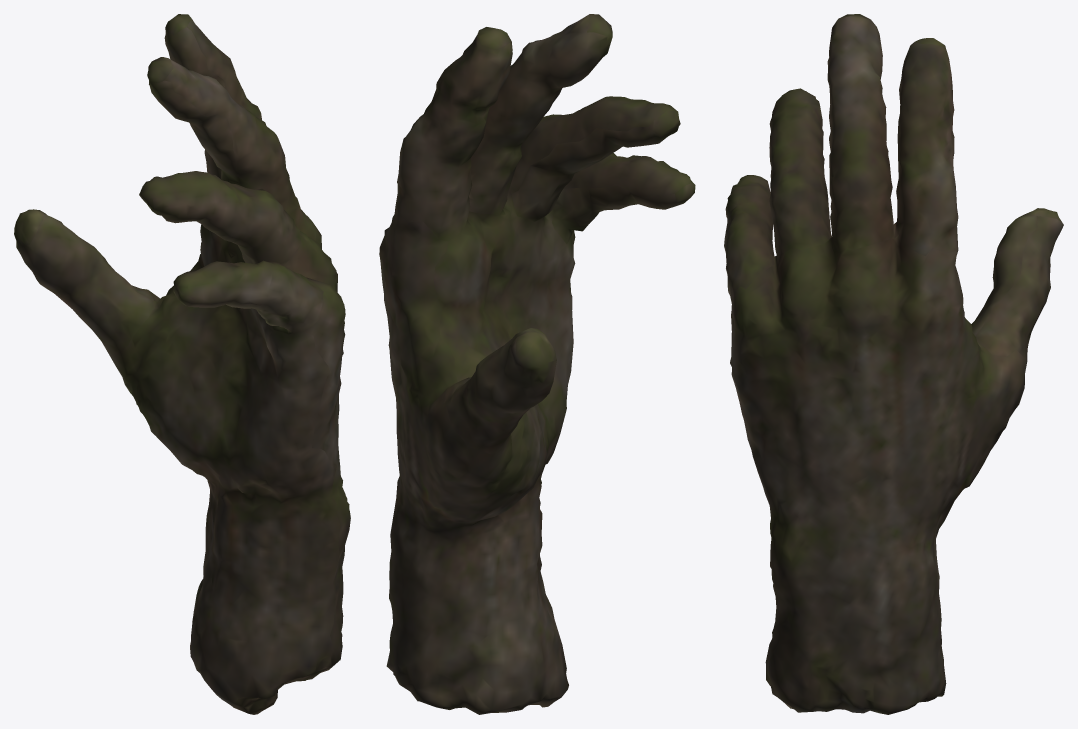
File: Statue_02.fbx
3 renders of one model, left to right at view 1: azimuth 30°, elevation 25°; view 2: azimuth 150°, elevation 25°; view 3: azimuth 270°, elevation 25°, orthographic. The views are drawn at different scales.
Parts seen in each view (by area): view 1: Statue_02; view 2: Statue_02; view 3: Statue_02.
Part boxes in pixels (box(x1,y1,x2,y2)): Statue_02: box(14, 14, 350, 714); Statue_02: box(379, 14, 695, 714); Statue_02: box(724, 14, 1063, 714).
Size of what is drawn, in the model's own units: 479 by 1379 by 641.
